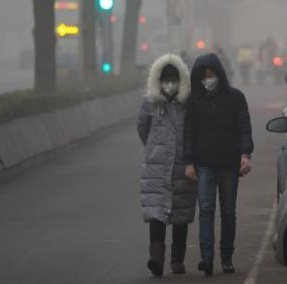person: (182, 51, 254, 276), (136, 51, 196, 278), (237, 45, 255, 85), (214, 48, 235, 81), (255, 44, 269, 86), (265, 35, 279, 54)
